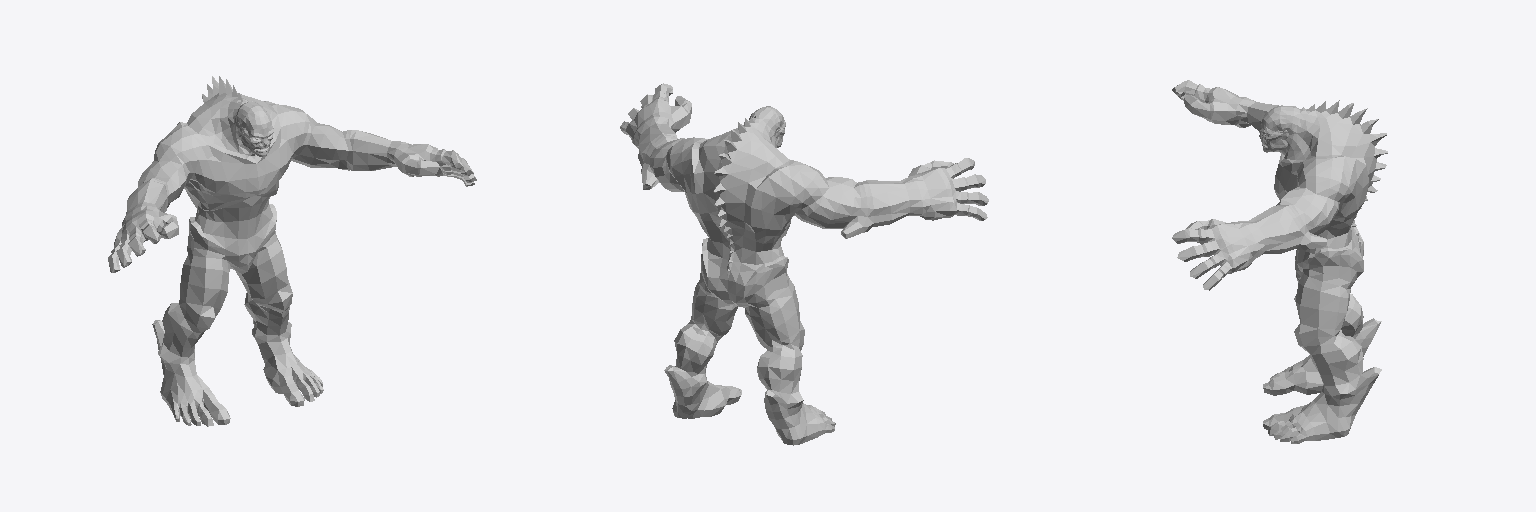
File: Perso.obj
3 views of the same model, side by side, from view 1: azimuth 30°, elevation 25°; view 2: azimuth 150°, elevation 25°; view 3: azimuth 270°, elevation 25° (orthographic).
Visible parts, largest first — view 1: Mesh_0114, Mesh_0113; view 2: Mesh_0114, Mesh_0113; view 3: Mesh_0114, Mesh_0113.
Boxes of the visible parts, x1=… form: Mesh_0114: x1=138, y1=76, x2=341, y2=423; Mesh_0113: x1=108, y1=130, x2=476, y2=426; Mesh_0114: x1=650, y1=106, x2=860, y2=441; Mesh_0113: x1=620, y1=83, x2=988, y2=445; Mesh_0114: x1=1259, y1=100, x2=1387, y2=443; Mesh_0113: x1=1172, y1=80, x2=1326, y2=395.
Size of the model in its own units: 1081 by 886 by 560.